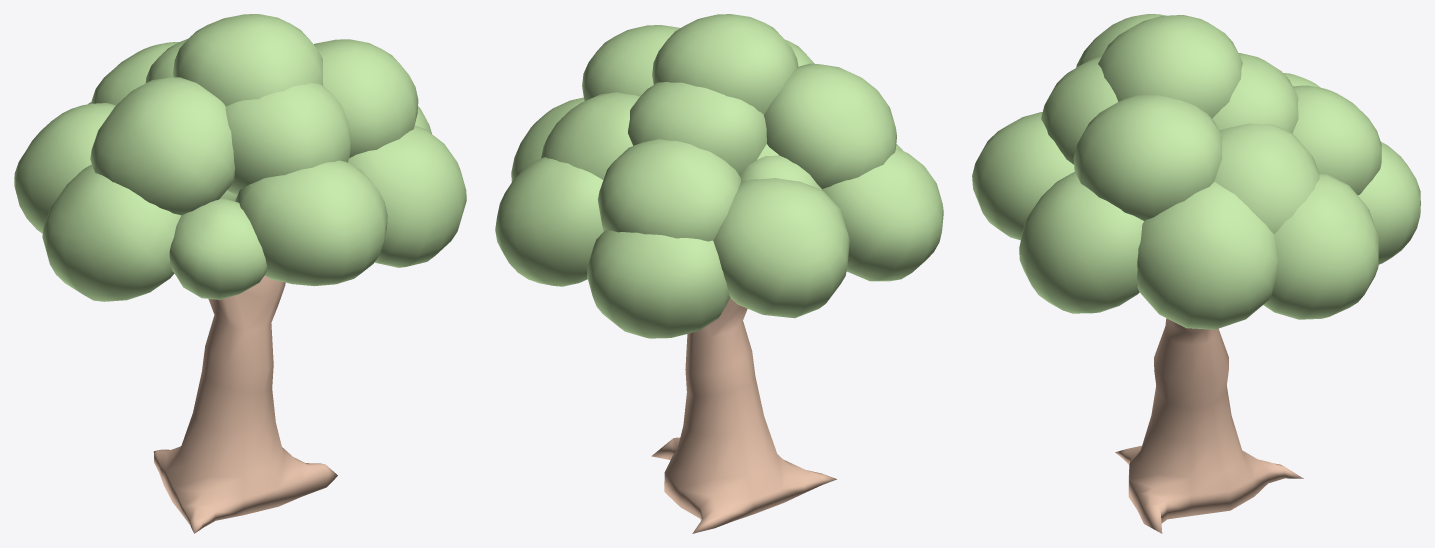
File: apple tree Single Mesh.fbx
3 renders of one model, left to right at view 1: azimuth 30°, elevation 25°; view 2: azimuth 150°, elevation 25°; view 3: azimuth 270°, elevation 25°, orthographic. The views are drawn at different scales.
Visible parts, largest first — view 1: apple_tree1; view 2: apple_tree1; view 3: apple_tree1.
Part boxes in pixels (x1,y1,x2,y2): apple_tree1: (14, 14, 466, 533); apple_tree1: (495, 14, 943, 533); apple_tree1: (972, 14, 1420, 533).
Size of the model in its own units: 21.59 by 24.36 by 21.13.
